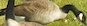goose: (1, 1, 87, 25)
